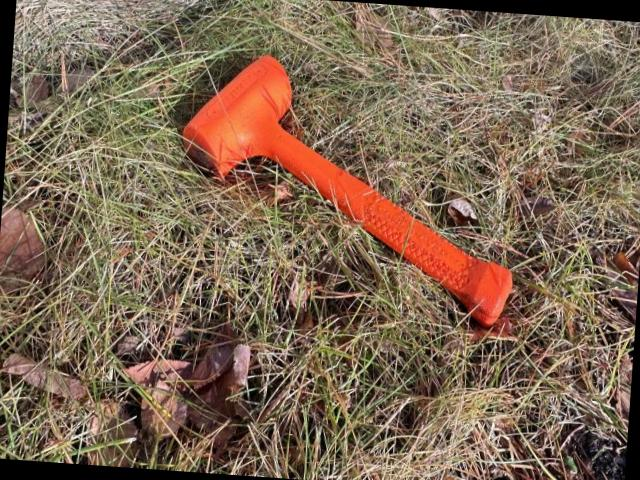hammer: (170, 49, 528, 326)
